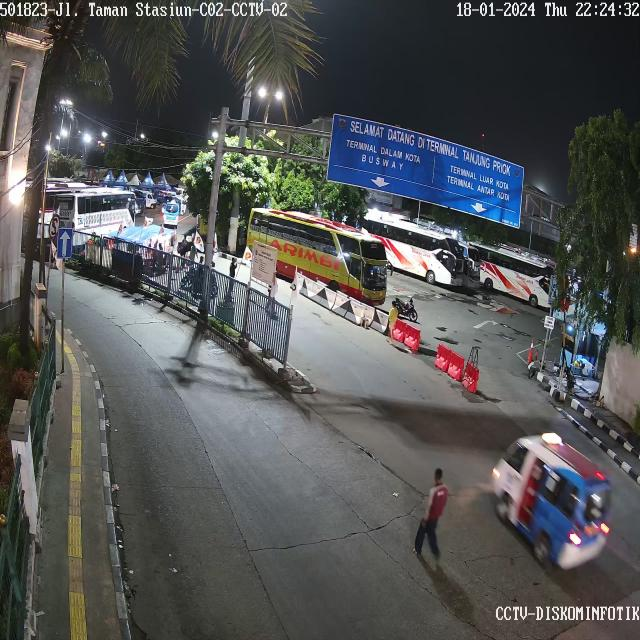Terpal: (110, 222, 175, 243)
